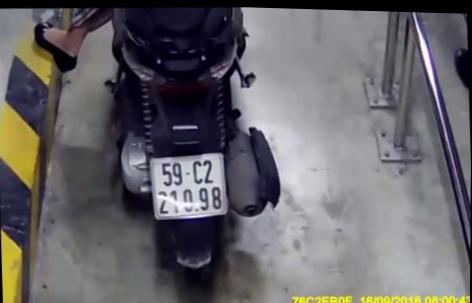LP: (149, 148, 229, 220)
